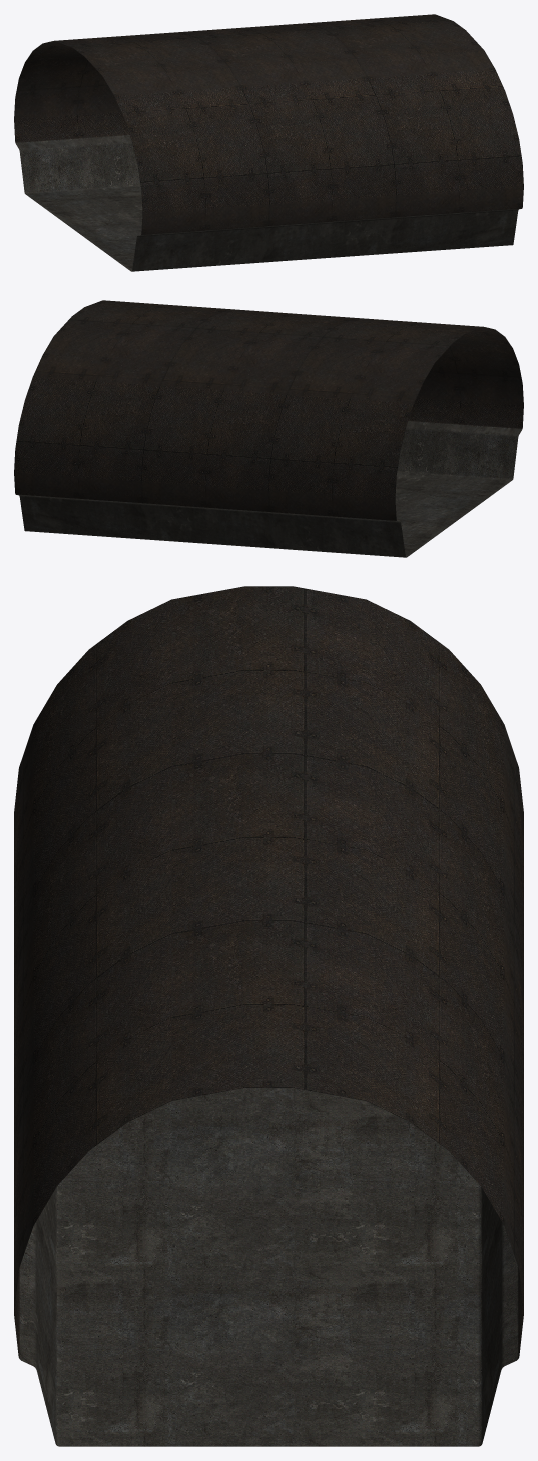
File: tunnel_straight_down_1.glb
3 views of the same model, one above another, from view 1: azimuth 30°, elevation 25°; view 2: azimuth 150°, elevation 25°; view 3: azimuth 270°, elevation 25° (orthographic). The views are drawn at different scales.
Parts seen in each view (by area): view 1: tunnel_straight_down_1; view 2: tunnel_straight_down_1; view 3: tunnel_straight_down_1.
Boxes of the visible parts, box(x1,y1,x2,y2) form: tunnel_straight_down_1: box(14, 14, 523, 271); tunnel_straight_down_1: box(14, 300, 523, 557); tunnel_straight_down_1: box(14, 586, 523, 1446).
Size of the model in its own units: 6 by 3.72 by 3.5.
2 materials, 2 textured.
